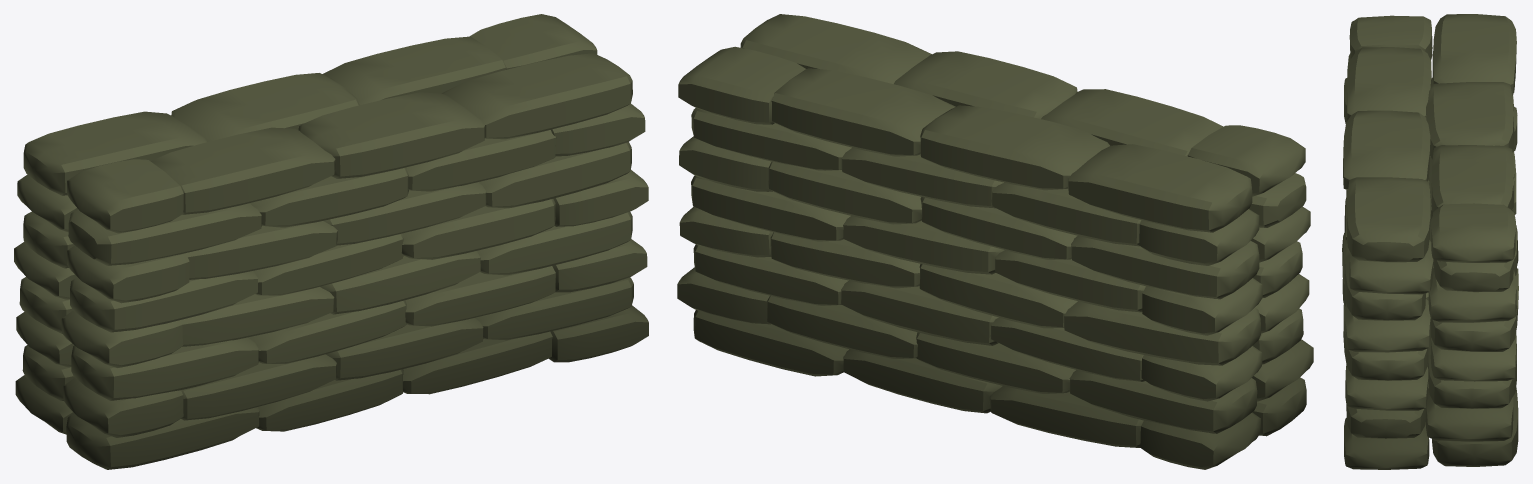
Rendered from sandbag_wall_green_2m.glb.
The picture shows the model from 3 angles, left to right: view 1: azimuth 30°, elevation 25°; view 2: azimuth 150°, elevation 25°; view 3: azimuth 270°, elevation 25°; orthographic projection. The views are drawn at different scales.
Parts seen in each view (by area): view 1: sandbag_wall_green_2m_LOD0; view 2: sandbag_wall_green_2m_LOD0; view 3: sandbag_wall_green_2m_LOD0.
Part boxes in pixels (left/top/right/bottom): sandbag_wall_green_2m_LOD0: left=14, top=14, right=648, bottom=469; sandbag_wall_green_2m_LOD0: left=677, top=14, right=1313, bottom=469; sandbag_wall_green_2m_LOD0: left=1342, top=14, right=1518, bottom=469.
Size of what is drawn, in the model's own units: 2.09 by 0.9787 by 0.6549.
